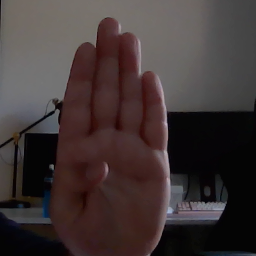B: (49, 15, 173, 256)
